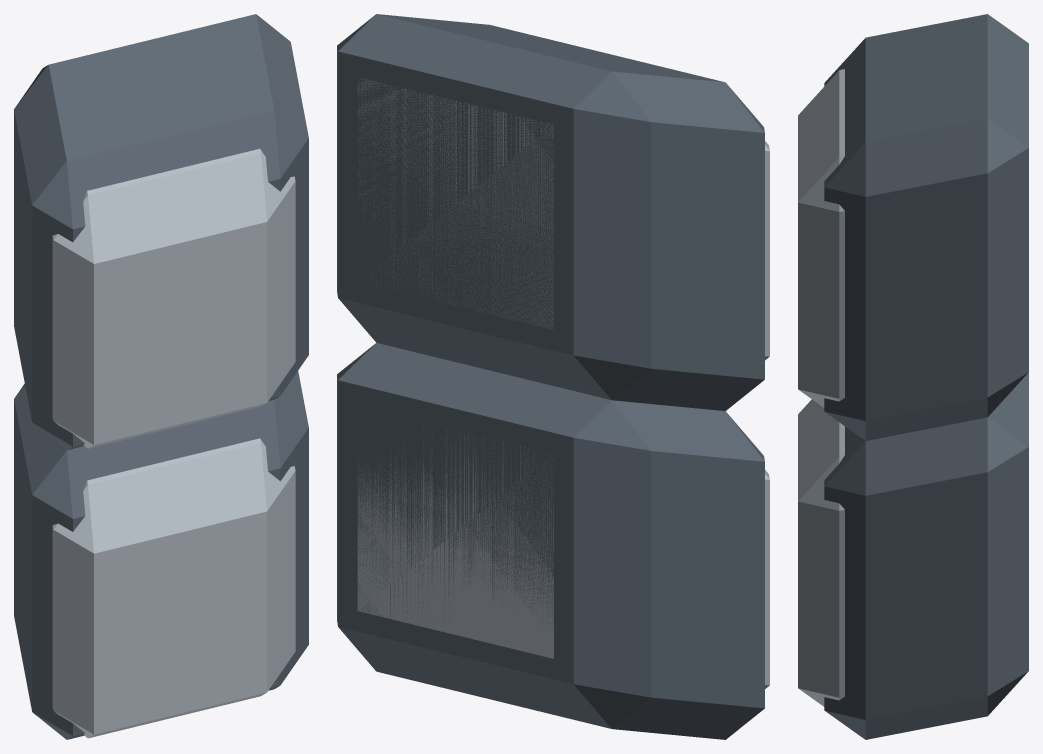
The model's file is Terrain_Block1x2.gltf.
3 renders of one model, left to right at view 1: azimuth 30°, elevation 25°; view 2: azimuth 150°, elevation 25°; view 3: azimuth 270°, elevation 25°, orthographic. The views are drawn at different scales.
Visible parts, largest first — view 1: Terrain_Block1x2_baked; view 2: Terrain_Block1x2_baked; view 3: Terrain_Block1x2_baked.
Part boxes in pixels (bbox=[...]): Terrain_Block1x2_baked: bbox=[14, 14, 308, 739]; Terrain_Block1x2_baked: bbox=[337, 14, 769, 739]; Terrain_Block1x2_baked: bbox=[798, 14, 1028, 739].
Size of the model in its own units: 1.15 by 2.15 by 0.7.
